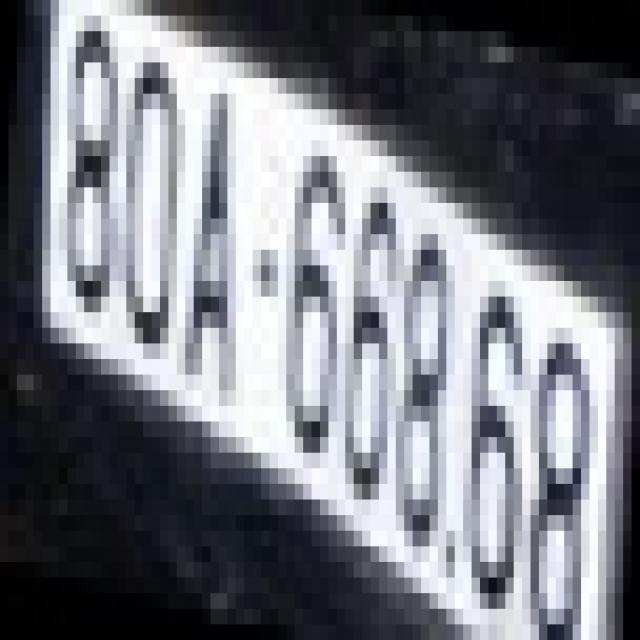0: (126, 47, 177, 343)
6: (286, 156, 346, 453), (345, 188, 396, 500), (472, 296, 522, 608)
8: (530, 343, 590, 640), (59, 31, 118, 312), (396, 234, 446, 546)
A: (177, 78, 244, 406)
